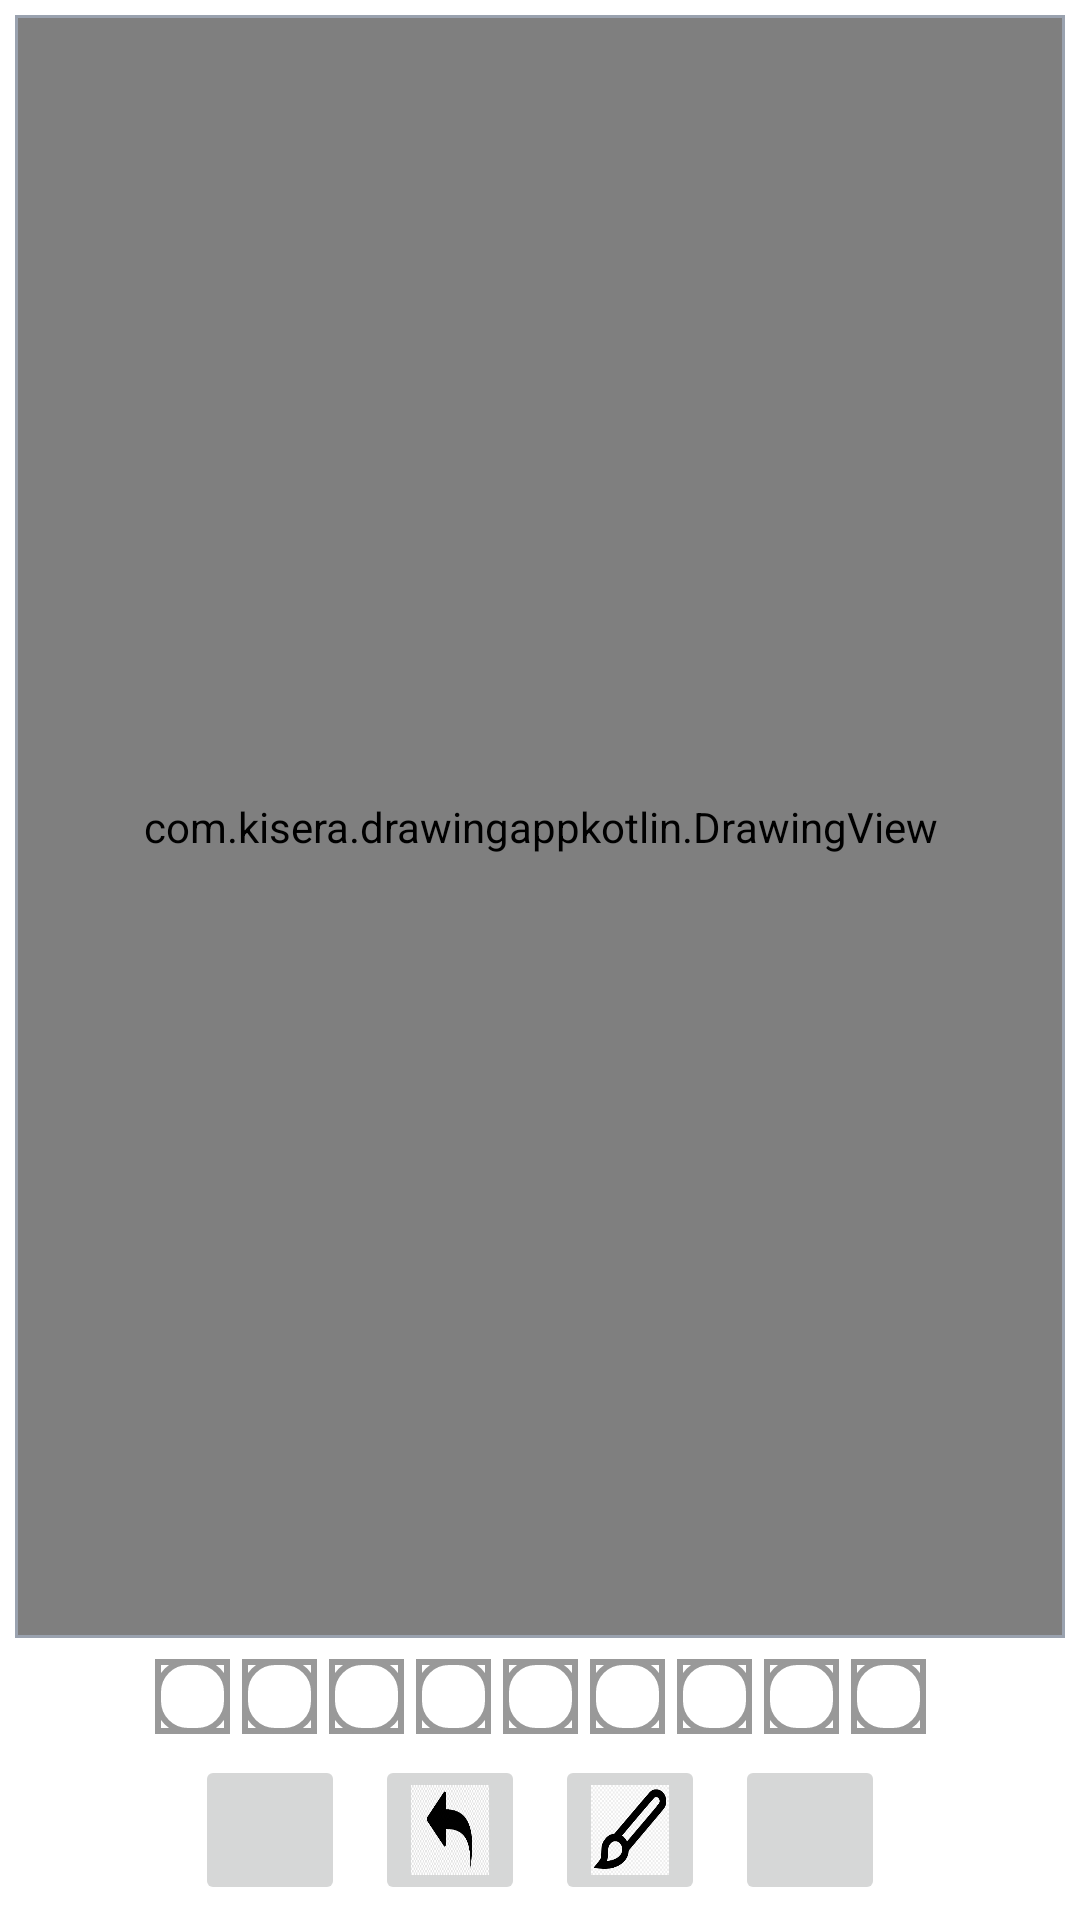

Where icons sit on this 1080*1920 app screen, as (x1, y1, x2, y2):
image brush: (567, 1773, 693, 1887)
undo image: (387, 1773, 513, 1887)
